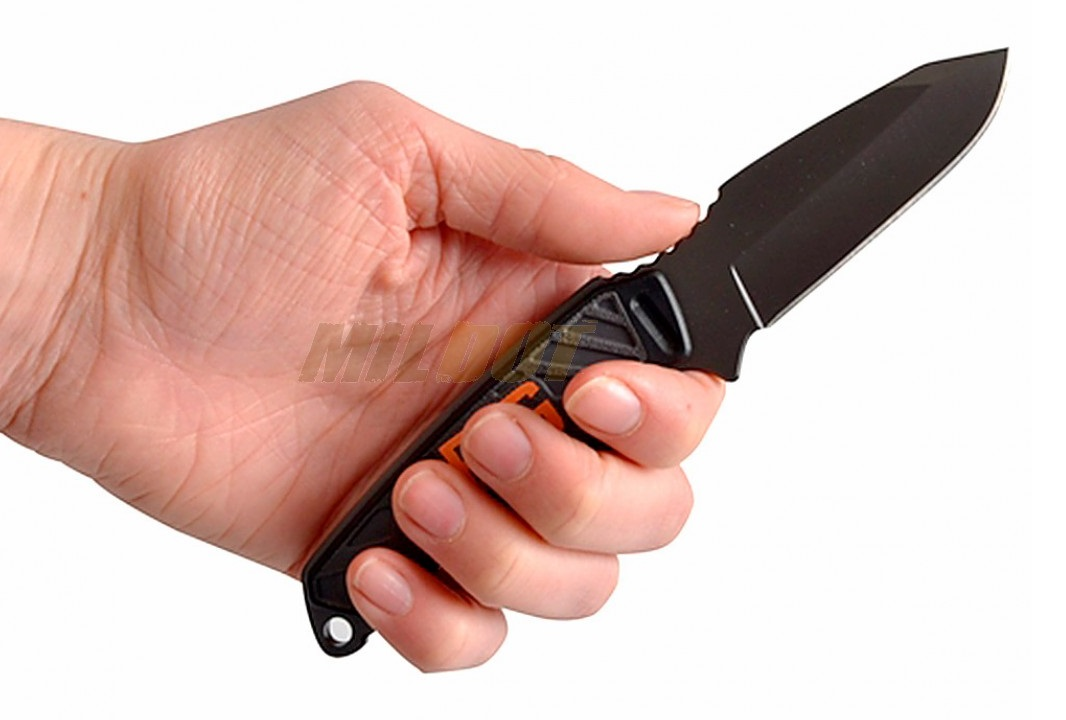knife: (287, 40, 1016, 681)
